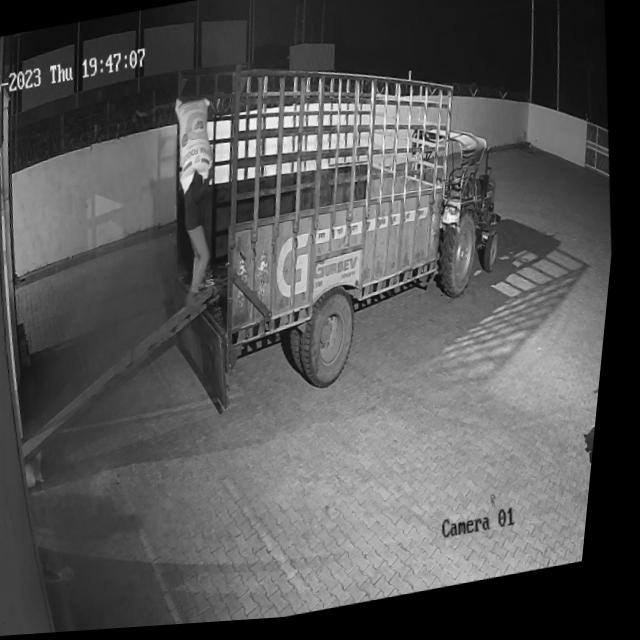sack: (168, 95, 225, 200)
